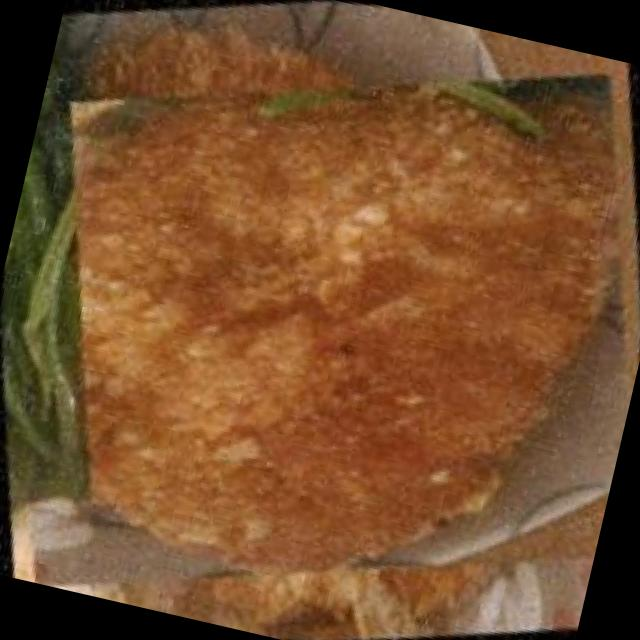fried_chicken: (0, 0, 640, 640)
water_spinach: (0, 4, 199, 525)
